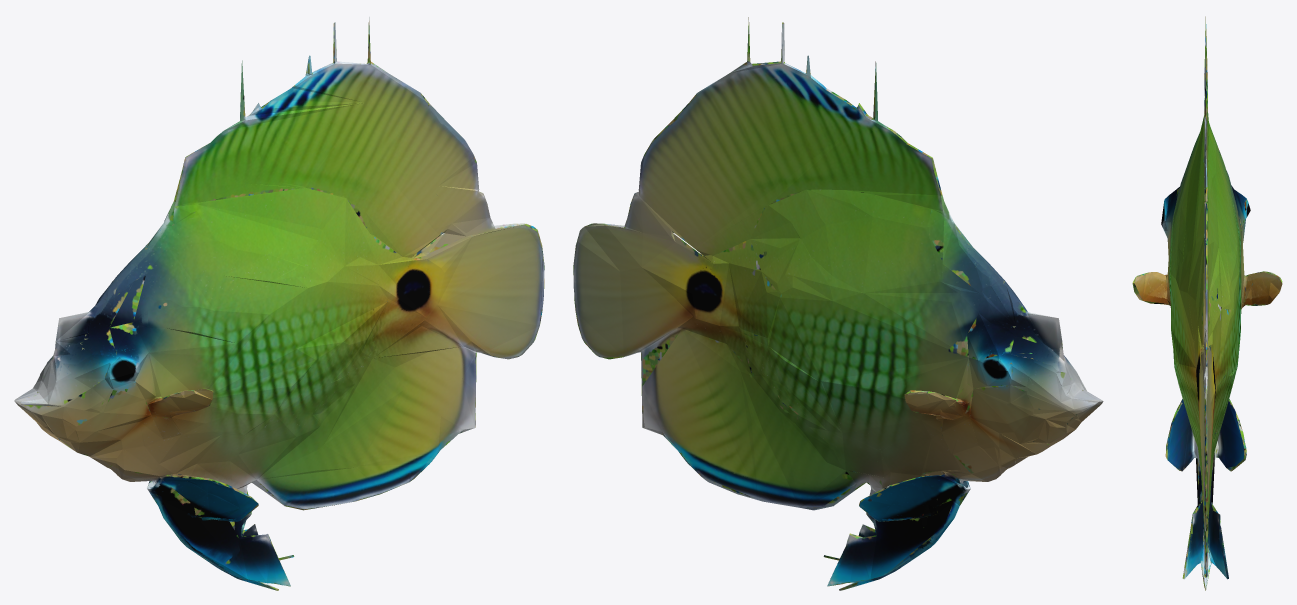
The model's file is fish_0009_smpl23_resized.glb.
3 renders of one model, left to right at view 1: azimuth 30°, elevation 25°; view 2: azimuth 150°, elevation 25°; view 3: azimuth 270°, elevation 25°, orthographic. The views are drawn at different scales.
Parts seen in each view (by area): view 1: world; view 2: world; view 3: world.
Part boxes in pixels (x1,y1,x2,y2): world: (14,17,544,590); world: (573,17,1103,590); world: (1132,16,1282,590).
Size of the model in its own units: 1.99 by 1.99 by 0.4738.
1 material, 1 textured.
